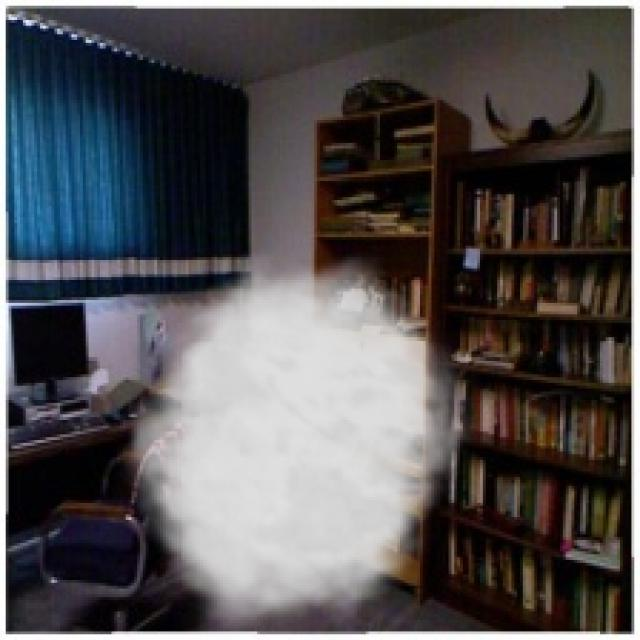smoke: (117, 252, 483, 637)
